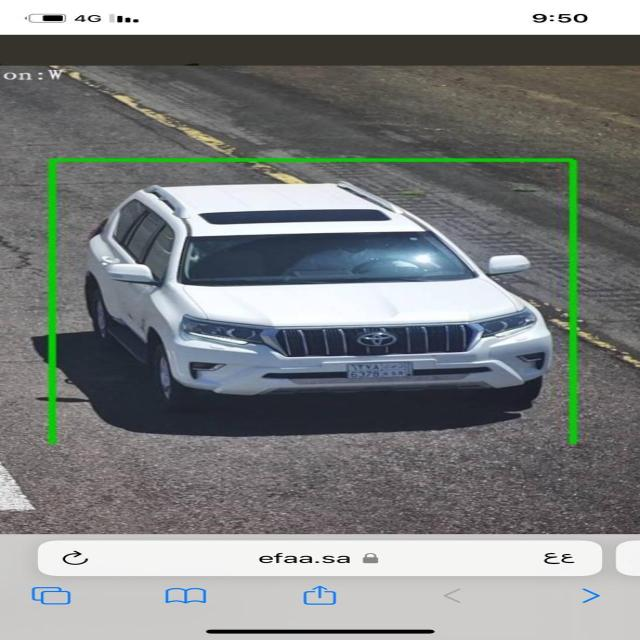person_without_seatbelt: (291, 238, 433, 291)
